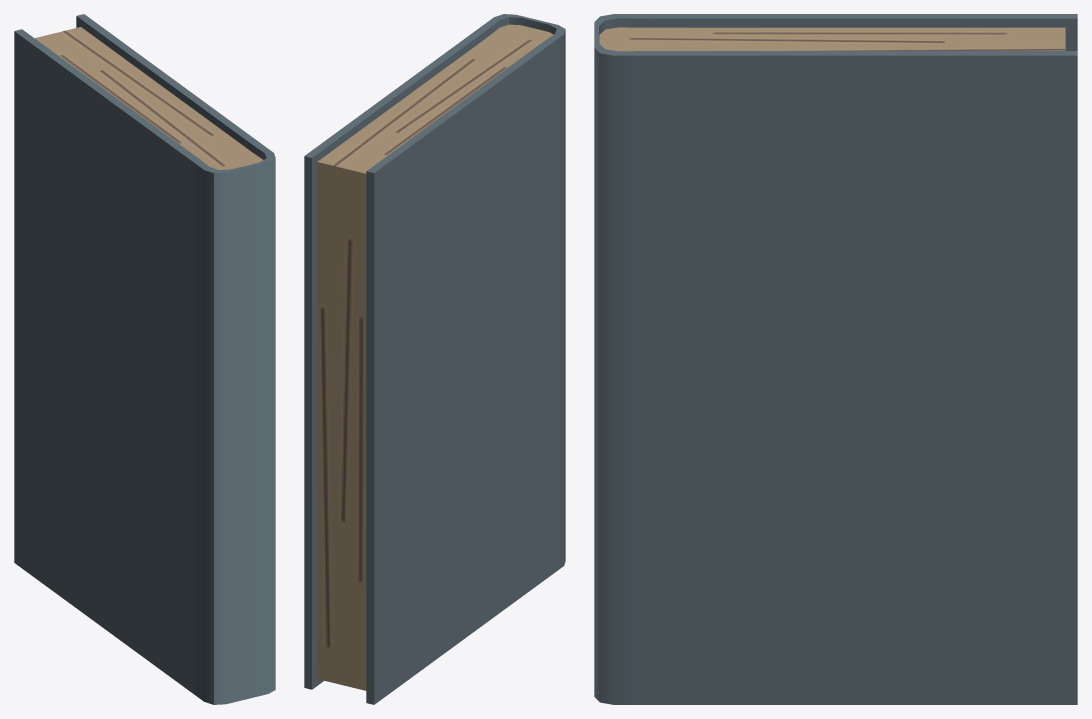
File: Mesh_Room_Book_04_SM.fbx
3 views of the same model, side by side, from view 1: azimuth 30°, elevation 25°; view 2: azimuth 150°, elevation 25°; view 3: azimuth 270°, elevation 25° (orthographic). The views are drawn at different scales.
Parts seen in each view (by area): view 1: Mesh_Room_Book_04; view 2: Mesh_Room_Book_04; view 3: Mesh_Room_Book_04.
Part boxes in pixels (left/top/right/bottom): Mesh_Room_Book_04: left=14, top=14, right=275, bottom=704; Mesh_Room_Book_04: left=304, top=14, right=565, bottom=704; Mesh_Room_Book_04: left=594, top=14, right=1077, bottom=704.
Size of the model in its own units: 4.06 by 29.5 by 19.9.
